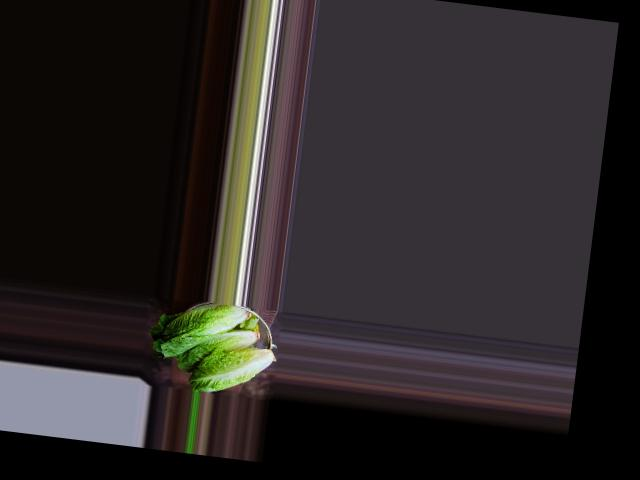lettuce: (150, 295, 259, 370)
